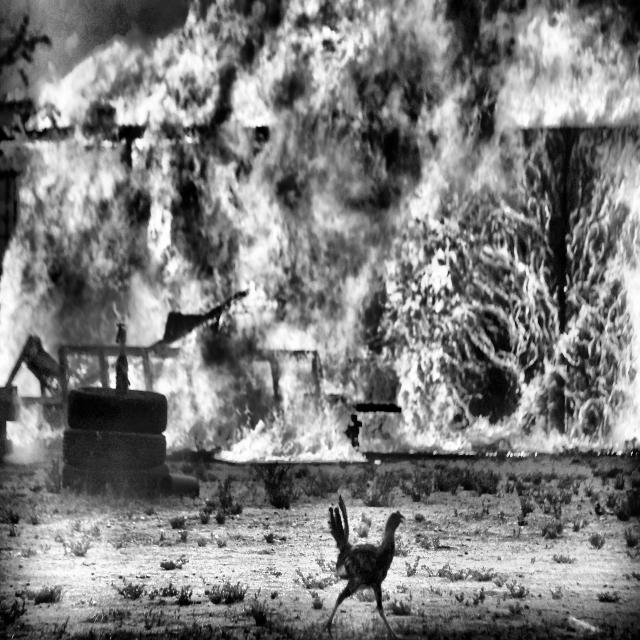fire: (4, 0, 640, 540)
